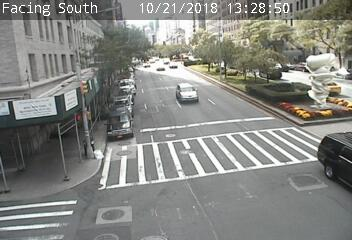car: (176, 83, 197, 104)
